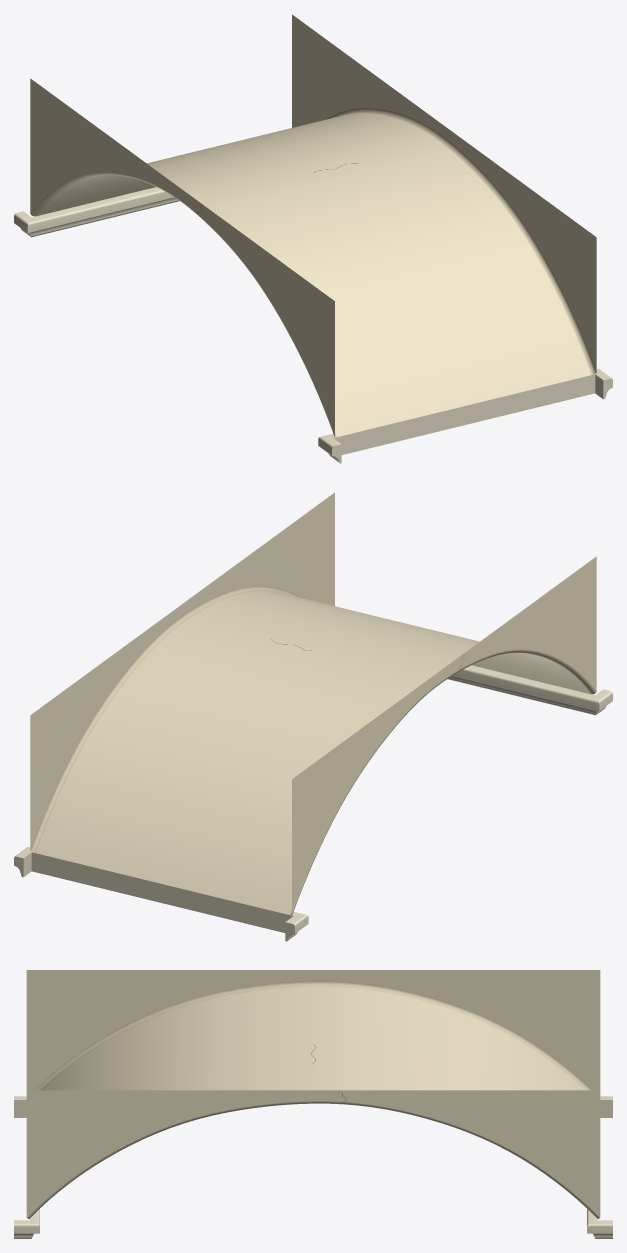
File: arch2.glb
3 views of the same model, one above another, from view 1: azimuth 30°, elevation 25°; view 2: azimuth 150°, elevation 25°; view 3: azimuth 270°, elevation 25° (orthographic). The views are drawn at different scales.
Visible parts, largest first — view 1: bogen; view 2: bogen; view 3: bogen.
Boxes of the visible parts, x1,y1,x2,y2 form: bogen: (14, 14, 612, 463); bogen: (14, 492, 612, 941); bogen: (14, 970, 612, 1238).
Size of the model in its own units: 1.08 by 0.575 by 2.11.
